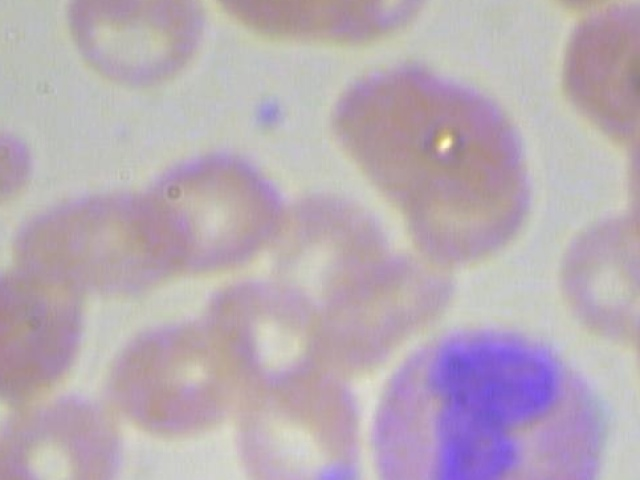Platelets: (245, 85, 295, 136)
RBC: (139, 144, 303, 273), (225, 371, 378, 480), (49, 0, 213, 98), (551, 0, 640, 154), (0, 393, 145, 480), (0, 109, 56, 220), (621, 286, 640, 425), (623, 114, 640, 243)
WBC: (354, 315, 631, 480)
